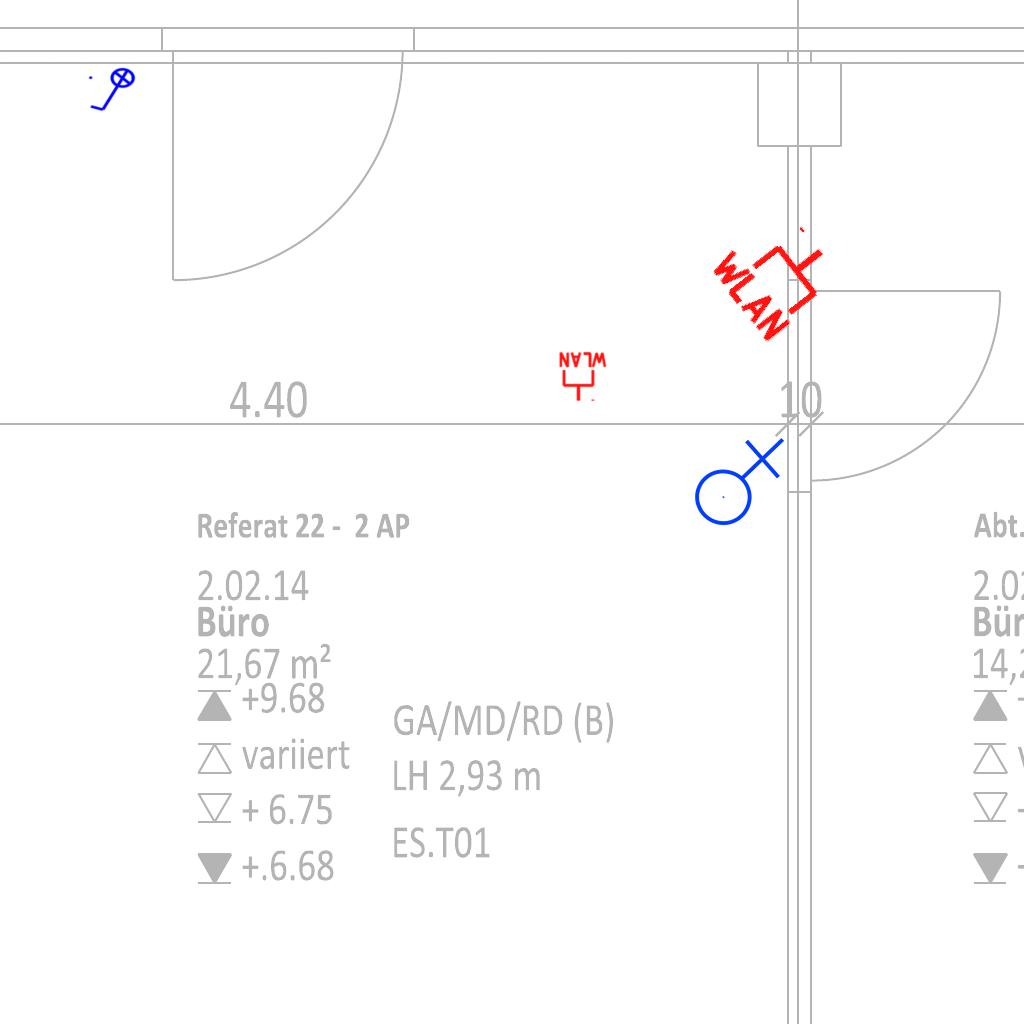Ausschalter_beleuchtet: (86, 67, 142, 115)
Elektroanschluss_allgemein_230V_Geraeteanschlussdose_230V: (686, 433, 785, 527)
WLAN: (704, 200, 851, 348), (557, 351, 609, 403)
